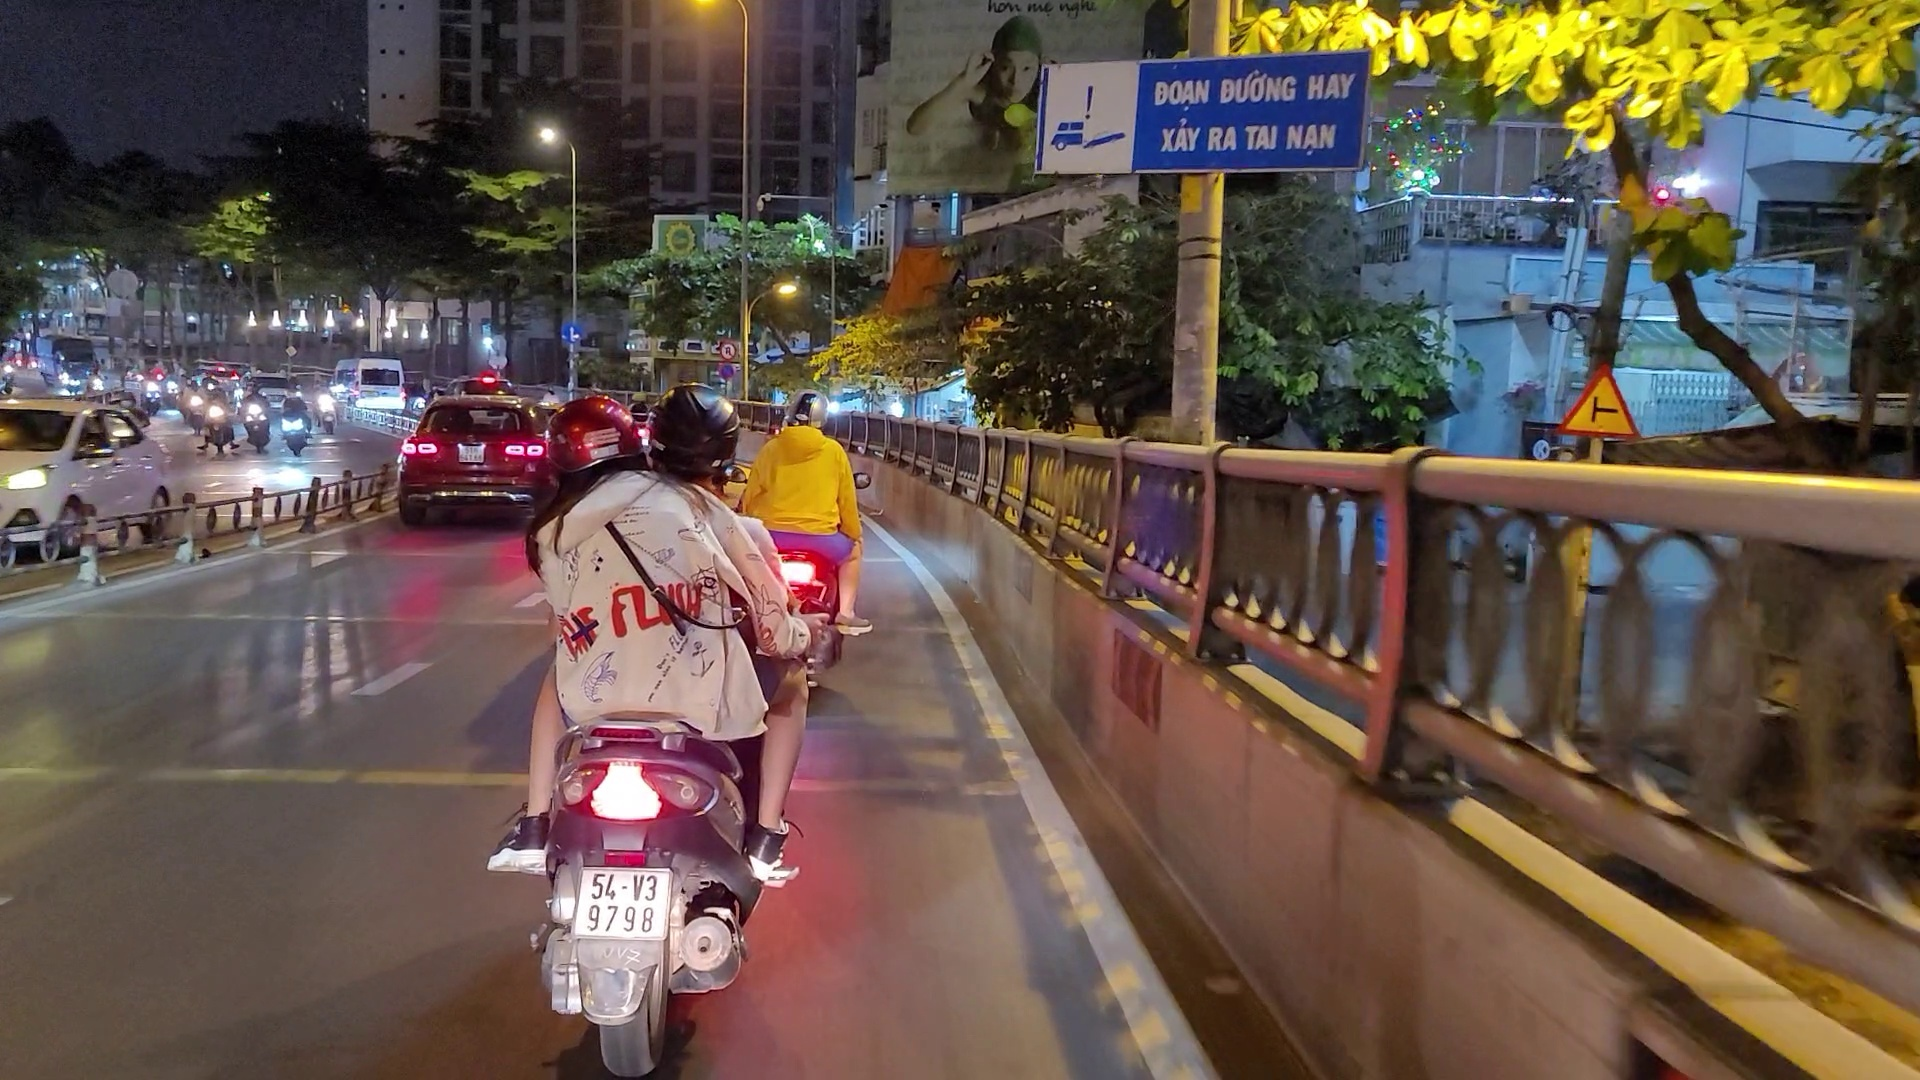Bien khac: (1029, 44, 1370, 171), (1552, 355, 1639, 443)
Cam do xe: (717, 360, 733, 377)
